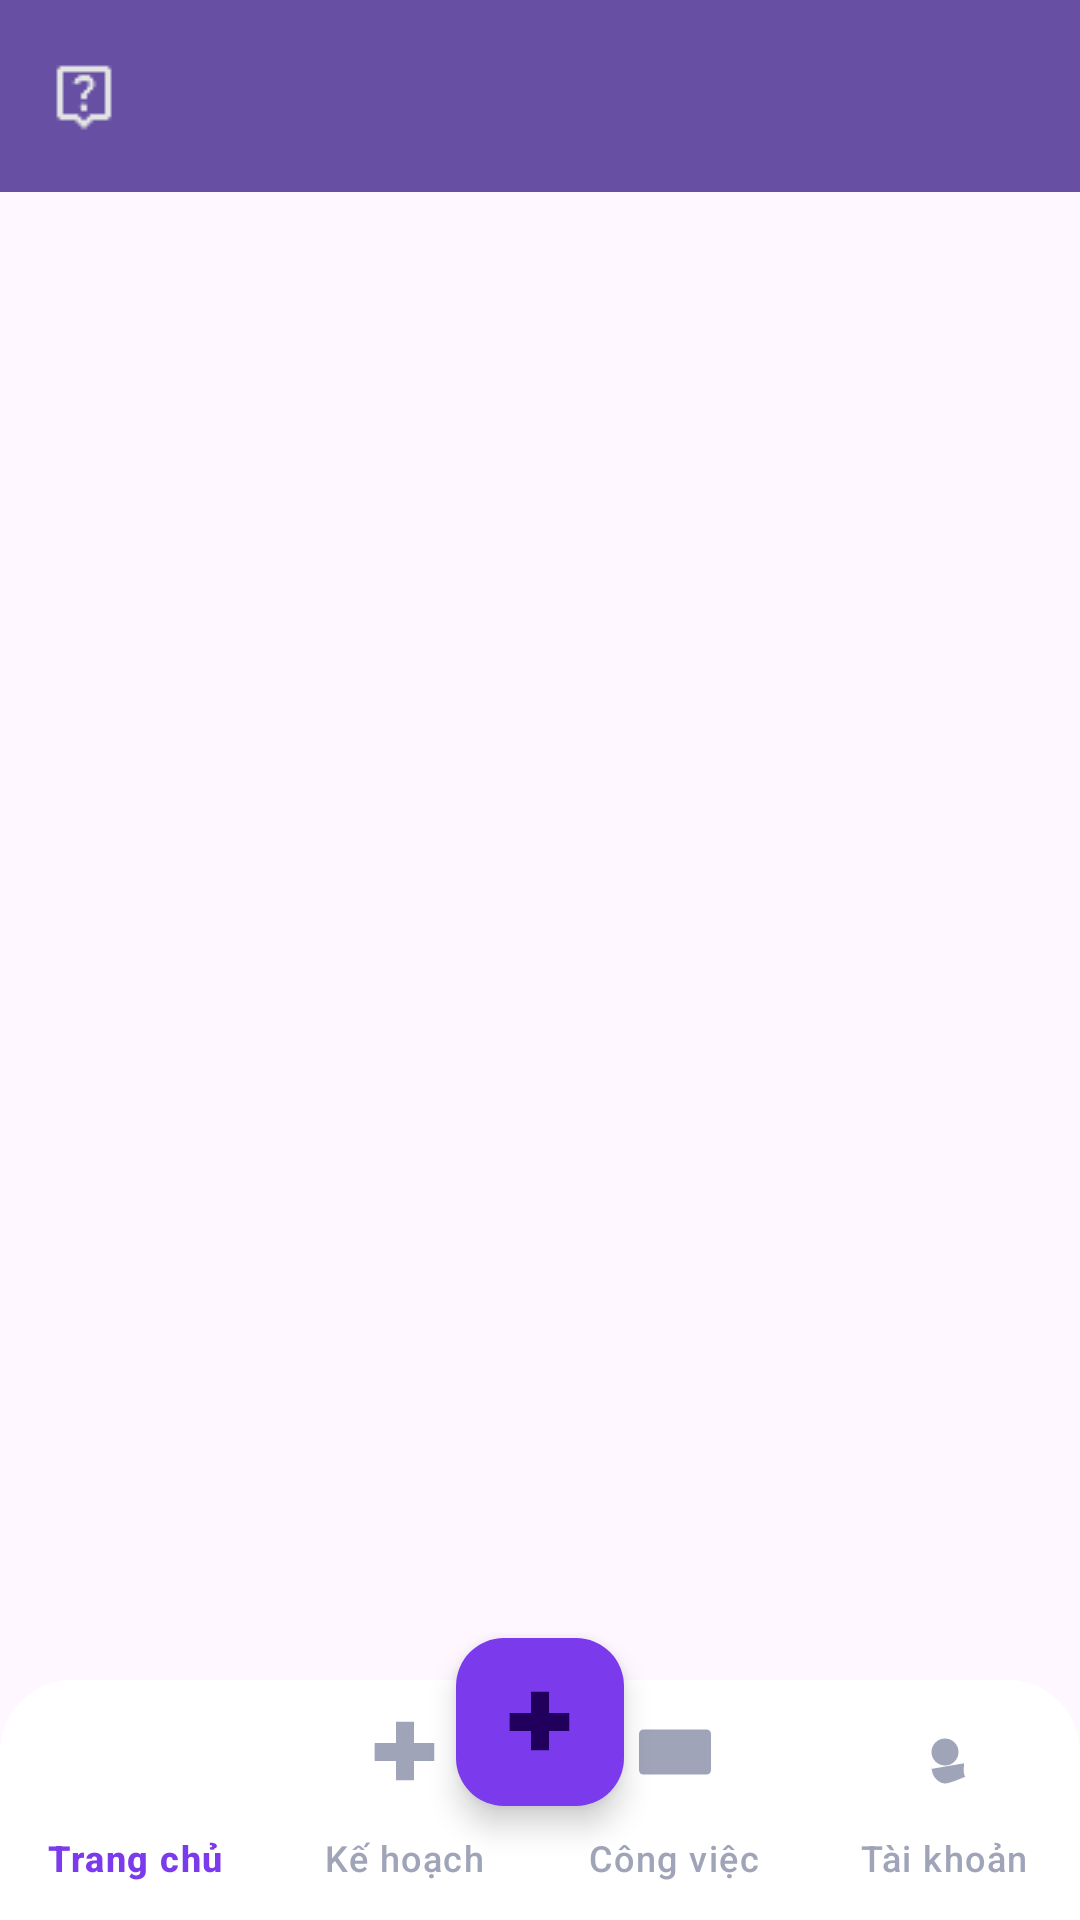

Where icons sit on this 1080*1920 app screen, as (x1, y1, x2, y2):
add: (456, 1638, 624, 1806)
